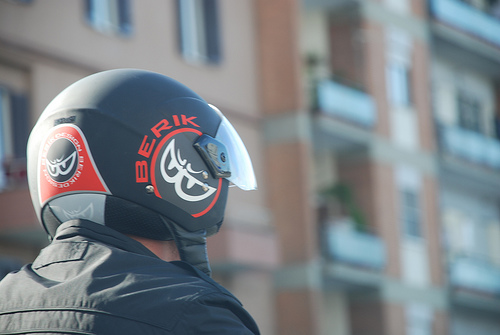helmet: (18, 75, 259, 236)
